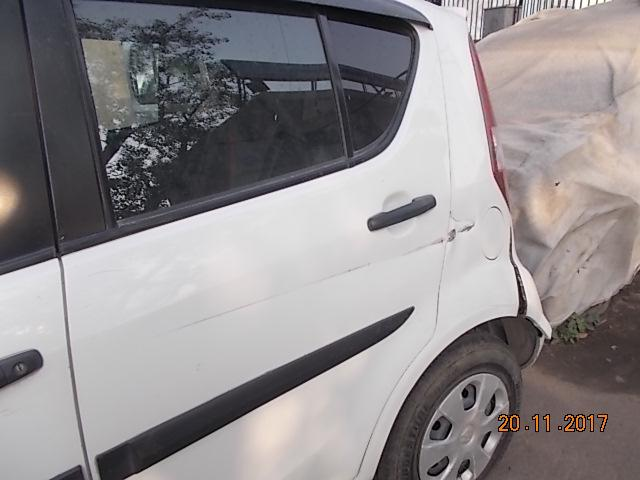doorouter-dent: (74, 183, 447, 479)
quaterpanel-dent: (441, 156, 526, 413)
